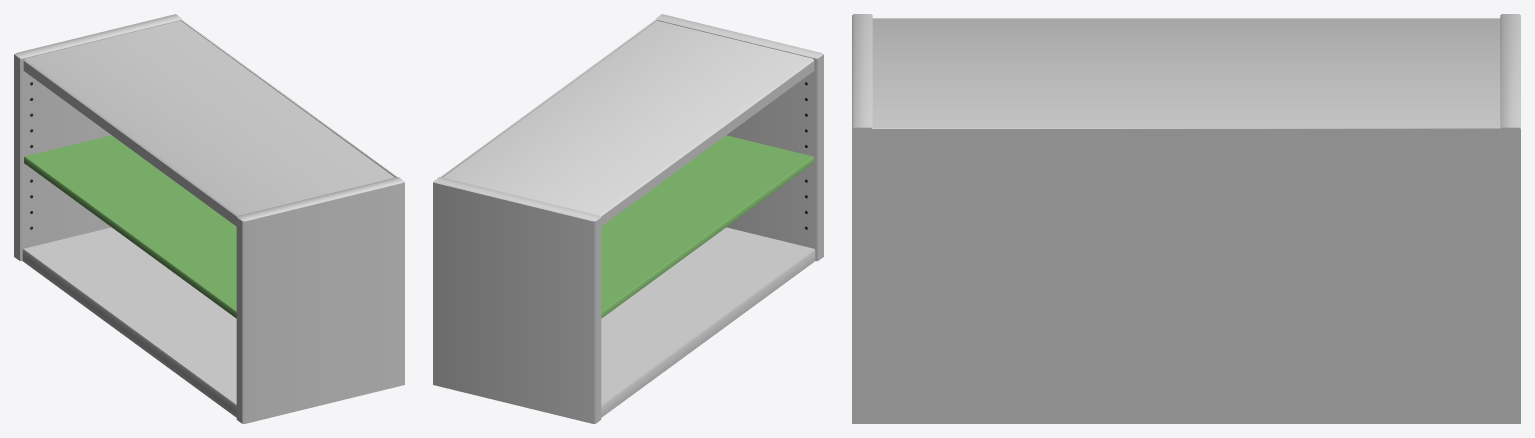
File: AkurumWallFrameHorizontal.FBX
The picture shows the model from 3 angles, left to right: view 1: azimuth 30°, elevation 25°; view 2: azimuth 150°, elevation 25°; view 3: azimuth 270°, elevation 25°; orthographic projection. The views are drawn at different scales.
Parts seen in each view (by area): view 1: AkurumWallFrameHorizontal; view 2: AkurumWallFrameHorizontal; view 3: AkurumWallFrameHorizontal.
Part boxes in pixels (x1,y1,x2,y2): AkurumWallFrameHorizontal: (14, 14, 404, 423); AkurumWallFrameHorizontal: (433, 14, 823, 423); AkurumWallFrameHorizontal: (852, 14, 1520, 423).
Size of the model in its own units: 31.21 by 76.72 by 37.51.
